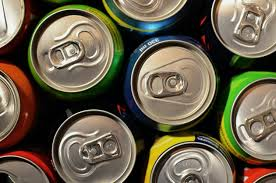can: (1, 1, 276, 183)
